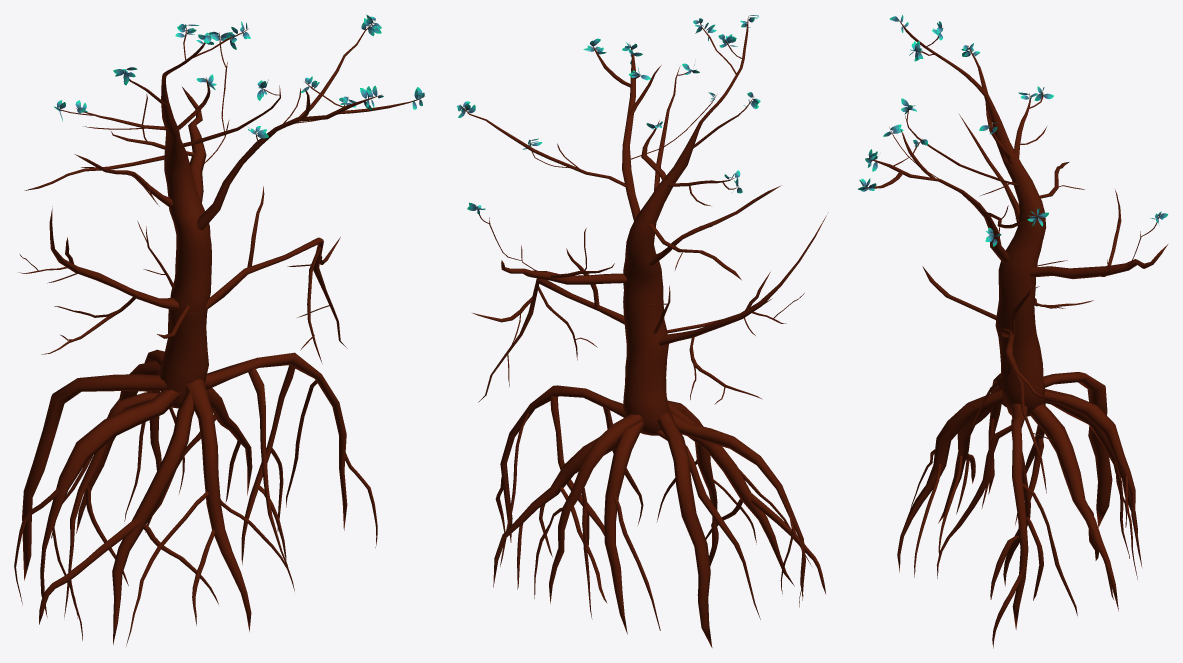
File: Mangrove_Dream_03 1.fbx
The picture shows the model from 3 angles, left to right: view 1: azimuth 30°, elevation 25°; view 2: azimuth 150°, elevation 25°; view 3: azimuth 270°, elevation 25°; orthographic projection. The views are drawn at different scales.
Visible parts, largest first — view 1: Tree, Leaf_main1269; view 2: Tree, Leaf_main1269; view 3: Tree, Leaf_main1269.
Boxes of the visible parts, bbox=[...] form: Tree: bbox=[14, 22, 423, 646]; Leaf_main1269: bbox=[54, 14, 424, 138]; Tree: bbox=[460, 16, 828, 647]; Leaf_main1269: bbox=[456, 15, 760, 214]; Tree: bbox=[864, 20, 1167, 648]; Leaf_main1269: bbox=[858, 15, 1168, 246].
Size of the model in its own units: 629 by 981 by 510.
